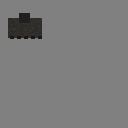armoured_vehicle: (8, 18, 42, 38)
